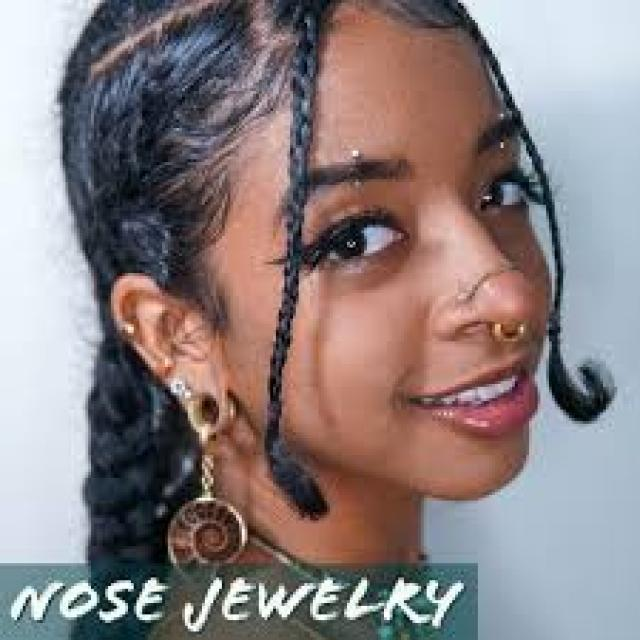Earring: (152, 394, 250, 590)
